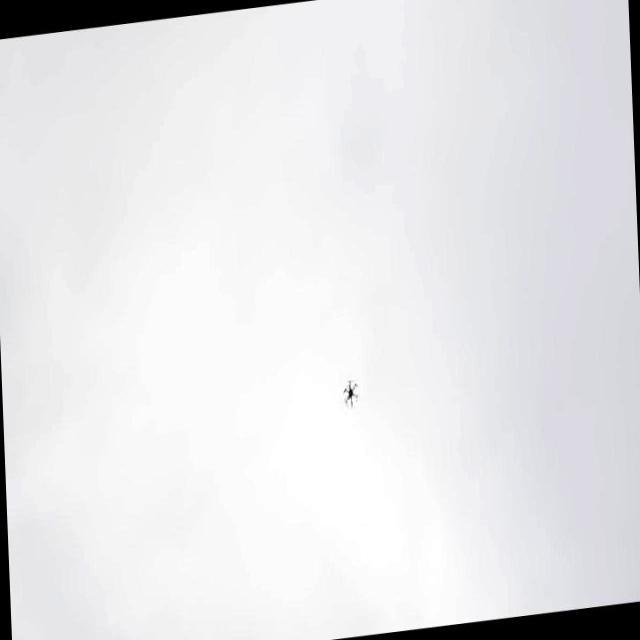drone: (337, 373, 363, 413)
